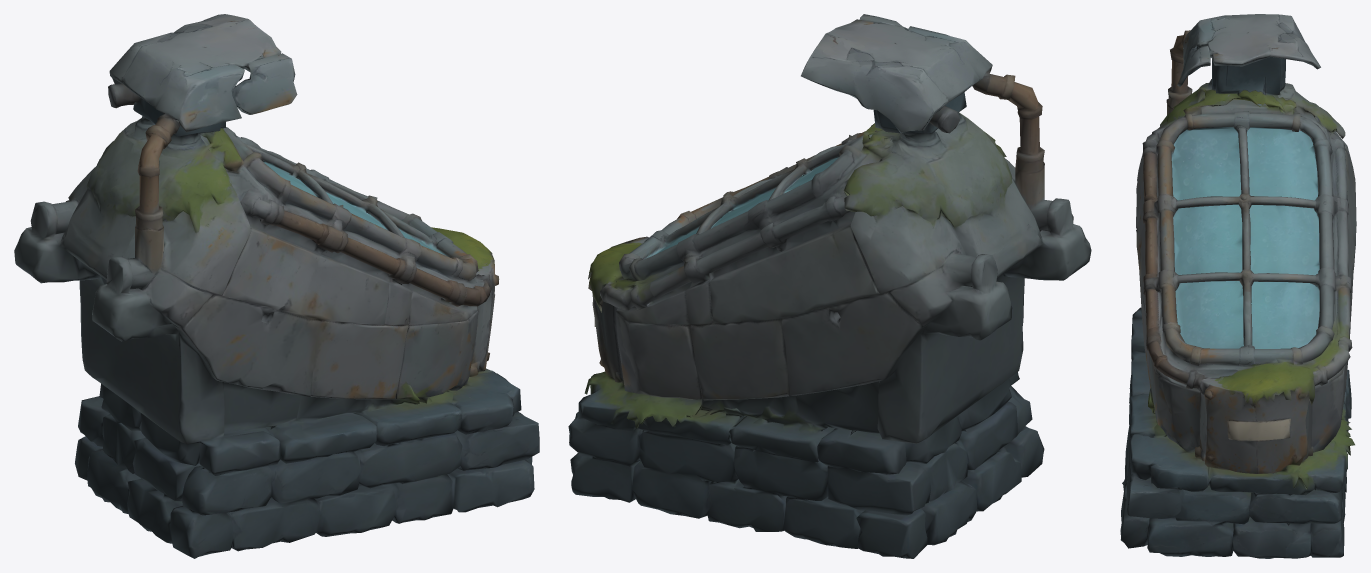
The model's file is pod-p4.glb.
The picture shows the model from 3 angles, left to right: view 1: azimuth 30°, elevation 25°; view 2: azimuth 150°, elevation 25°; view 3: azimuth 270°, elevation 25°; orthographic projection. The views are drawn at different scales.
Parts seen in each view (by area): view 1: tripo_node_e0fbc1cc-5a66-47d9-948f-434c168fe7de; view 2: tripo_node_e0fbc1cc-5a66-47d9-948f-434c168fe7de; view 3: tripo_node_e0fbc1cc-5a66-47d9-948f-434c168fe7de.
Boxes of the visible parts, bbox=[...] form: tripo_node_e0fbc1cc-5a66-47d9-948f-434c168fe7de: bbox=[14, 14, 539, 558]; tripo_node_e0fbc1cc-5a66-47d9-948f-434c168fe7de: bbox=[568, 14, 1091, 558]; tripo_node_e0fbc1cc-5a66-47d9-948f-434c168fe7de: bbox=[1120, 14, 1356, 558].
Bounding box in the file's own units: 1.14 × 1.2 × 0.6169.
1 material, 1 textured.
